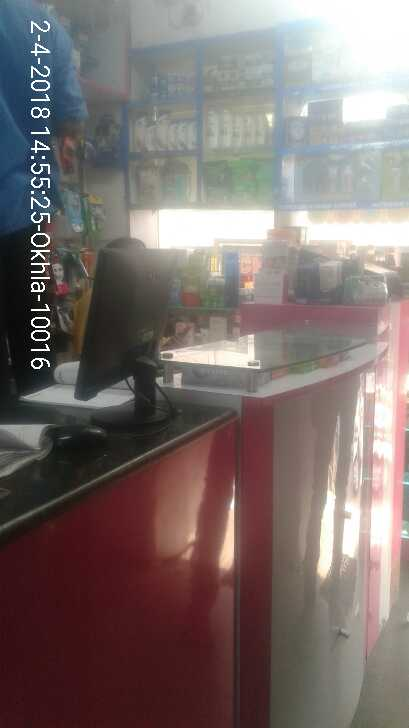vicks: (148, 71, 198, 95)
